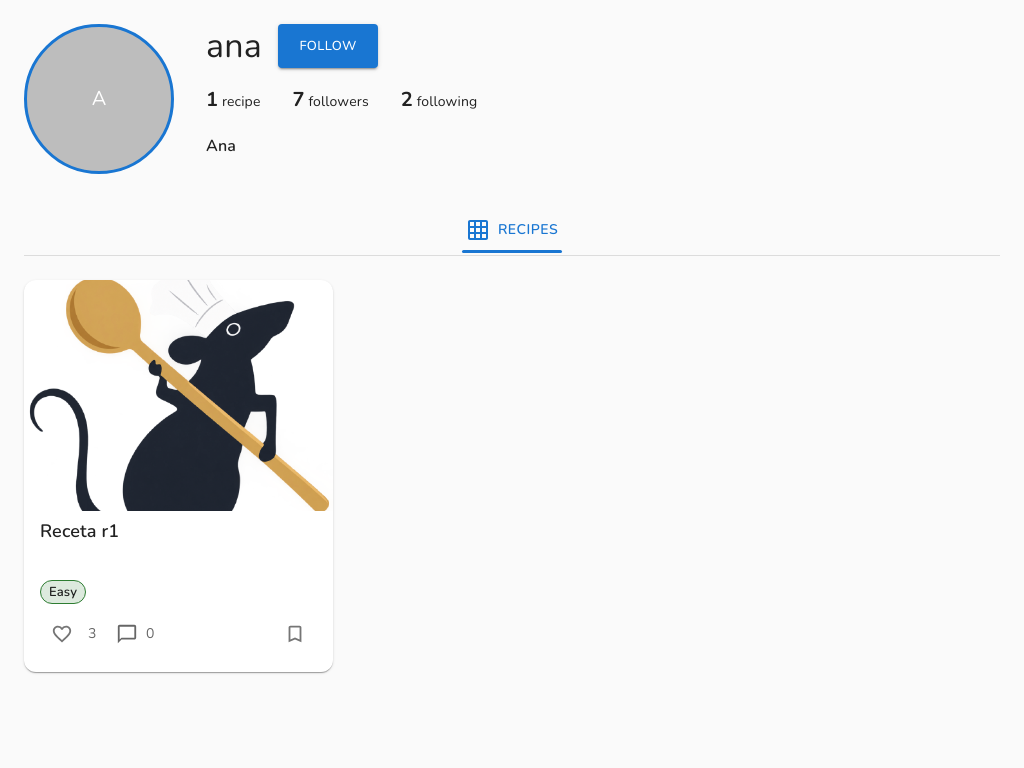
Test case: the profile page › following a private account › takes the server’s word the other way too: a follow answered with a request locks it
Click the button "Follow" at (328, 46), box [278,24,378,68]
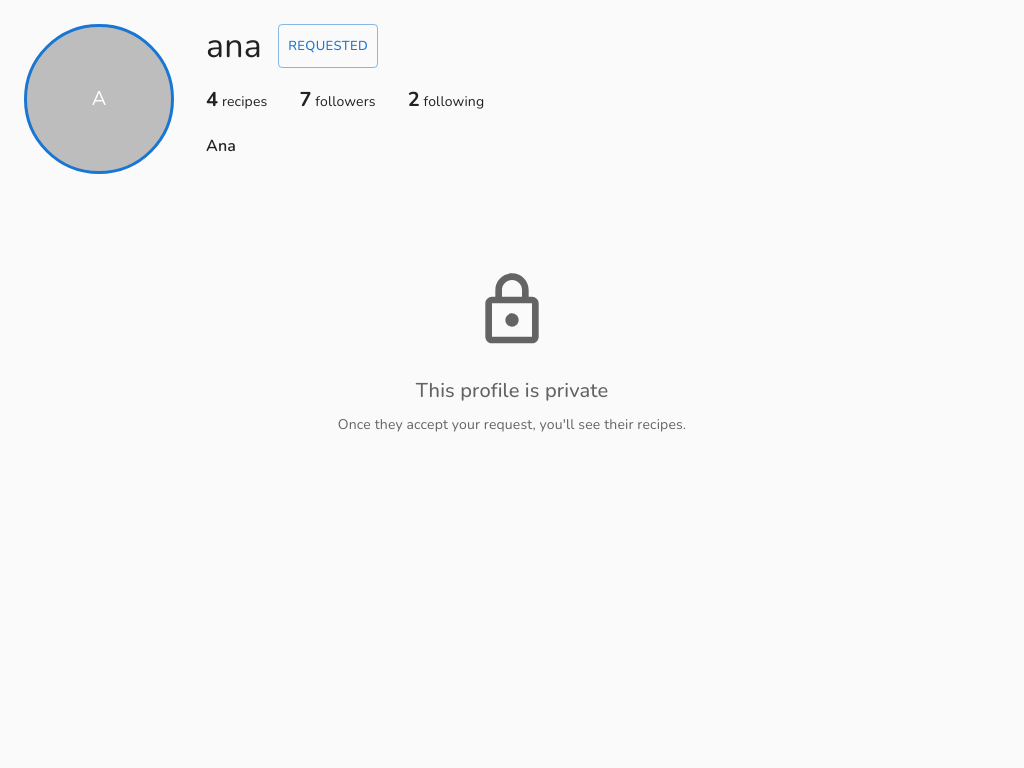
Result: the text "Once they accept your request, you'll see their recipes." is shown at [338,415,686,434]
Result: the button "Requested" is shown at [278,24,378,68]
Result: the link "Receta r1" is gone
